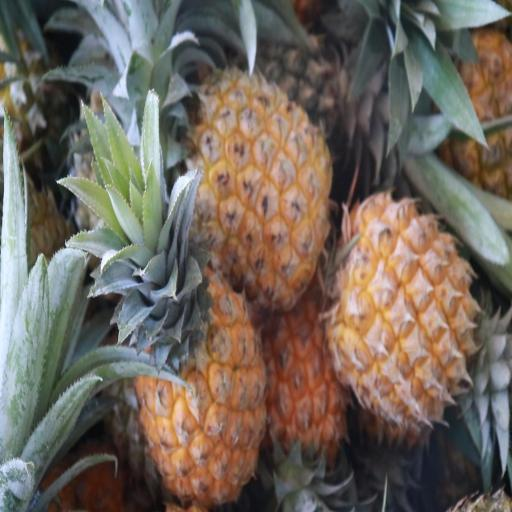Pineapple - v8 v1: (134, 205, 267, 501), (190, 68, 333, 306), (334, 193, 477, 428), (266, 294, 350, 505)
